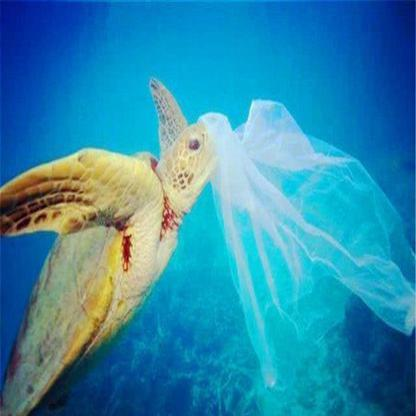plastic bag: (206, 97, 414, 391)
